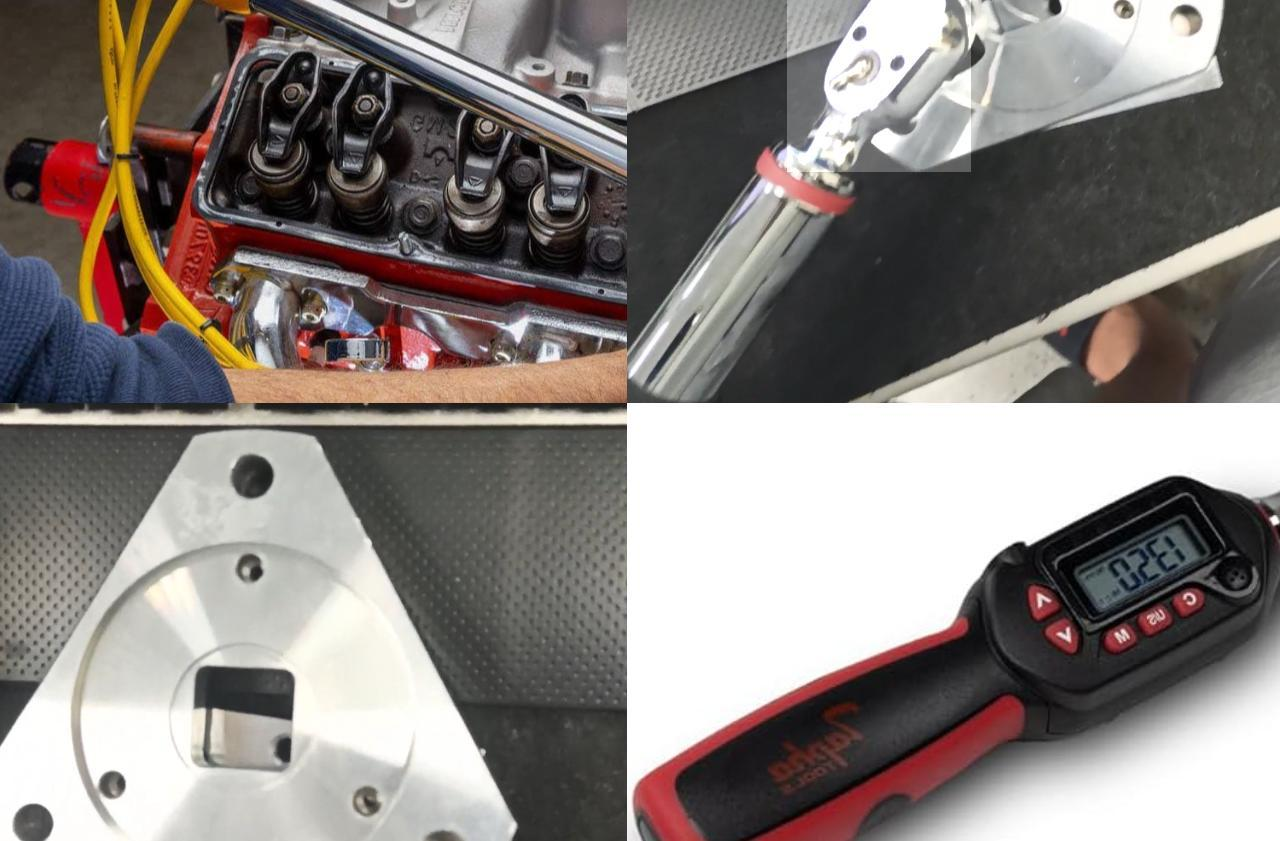Tool: (786, 0, 970, 171)
hole: (208, 450, 294, 507), (1158, 0, 1229, 47), (0, 793, 67, 838), (332, 782, 389, 823), (76, 768, 131, 808), (220, 552, 270, 590), (882, 107, 933, 141), (1102, 1, 1155, 28), (403, 823, 476, 839)
